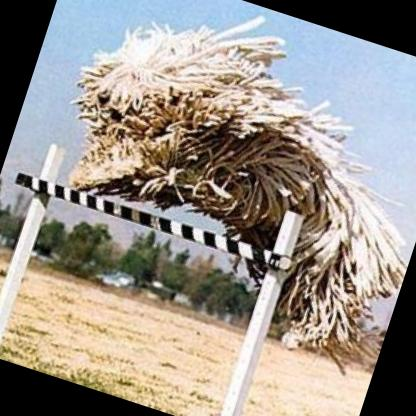komondor: (13, 0, 416, 385)
